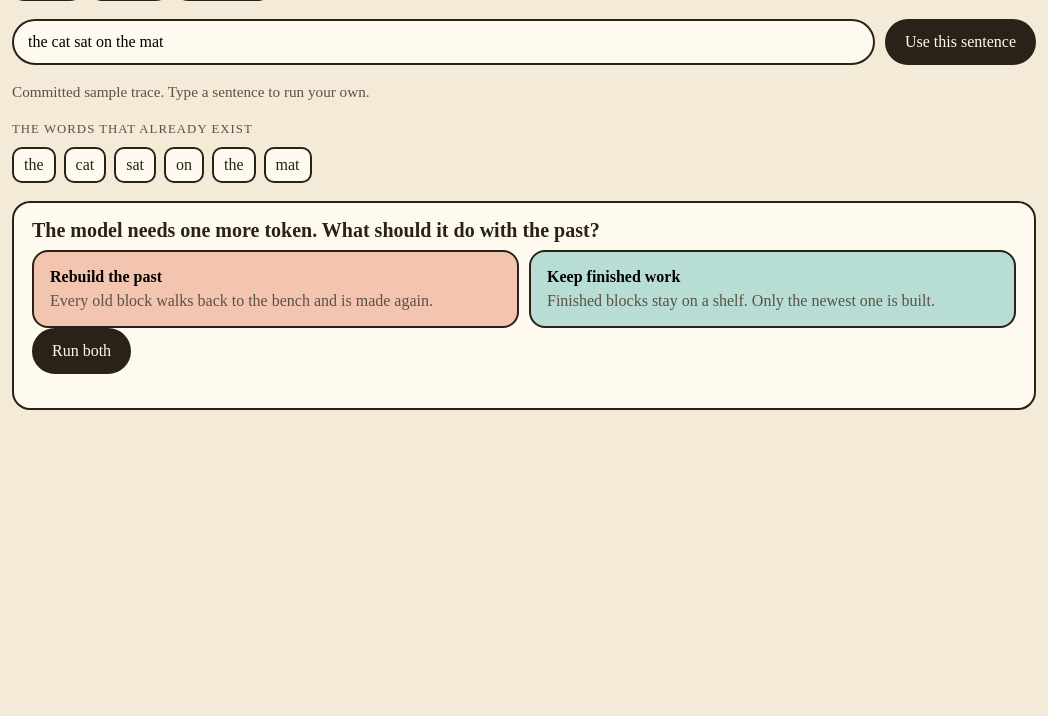
Test: experiment 01 playground › reset returns the walk to ready
Click the button "Every old block walks back" at (276, 289), box 32,250 -> 519,328
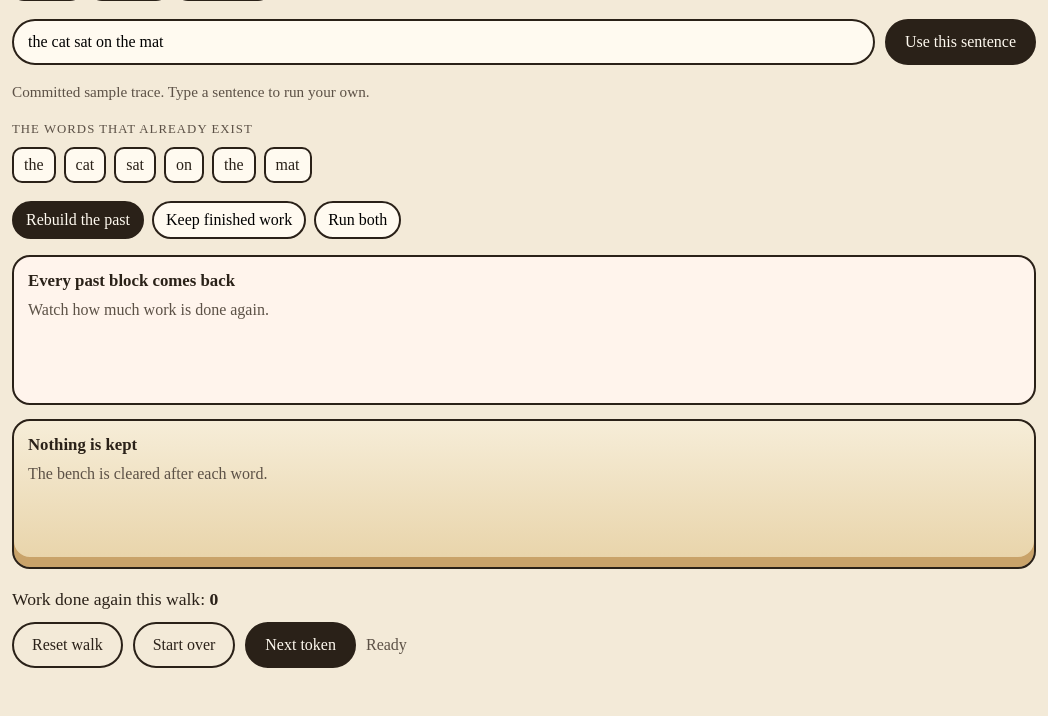
Click the button "Next token" at (301, 645), box 245,622 -> 356,668
(page scrolled)
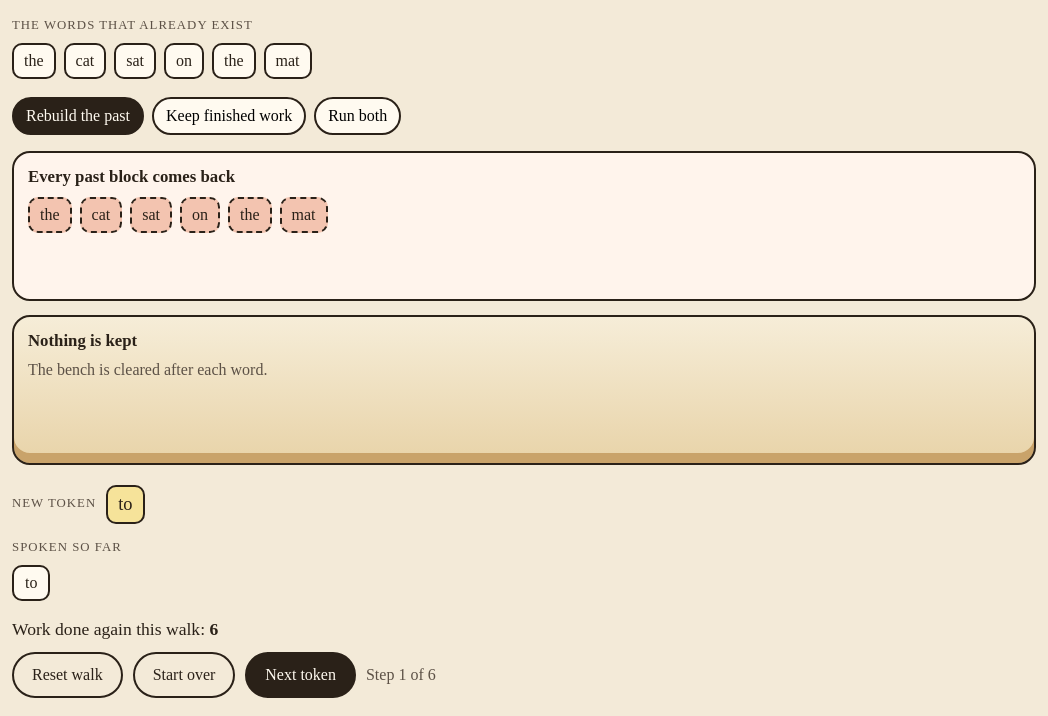
Click the button "Reset walk" at (67, 675), box 12,652 -> 123,698
(page scrolled)
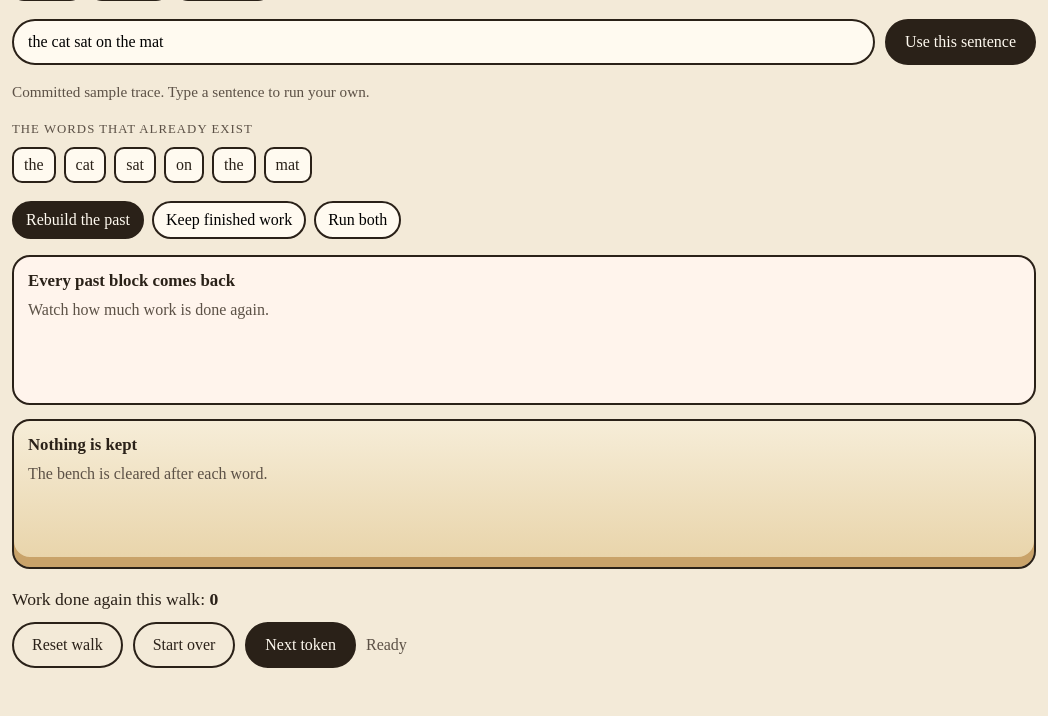
Now the text "Ready" is shown, box 366,636 -> 407,654
